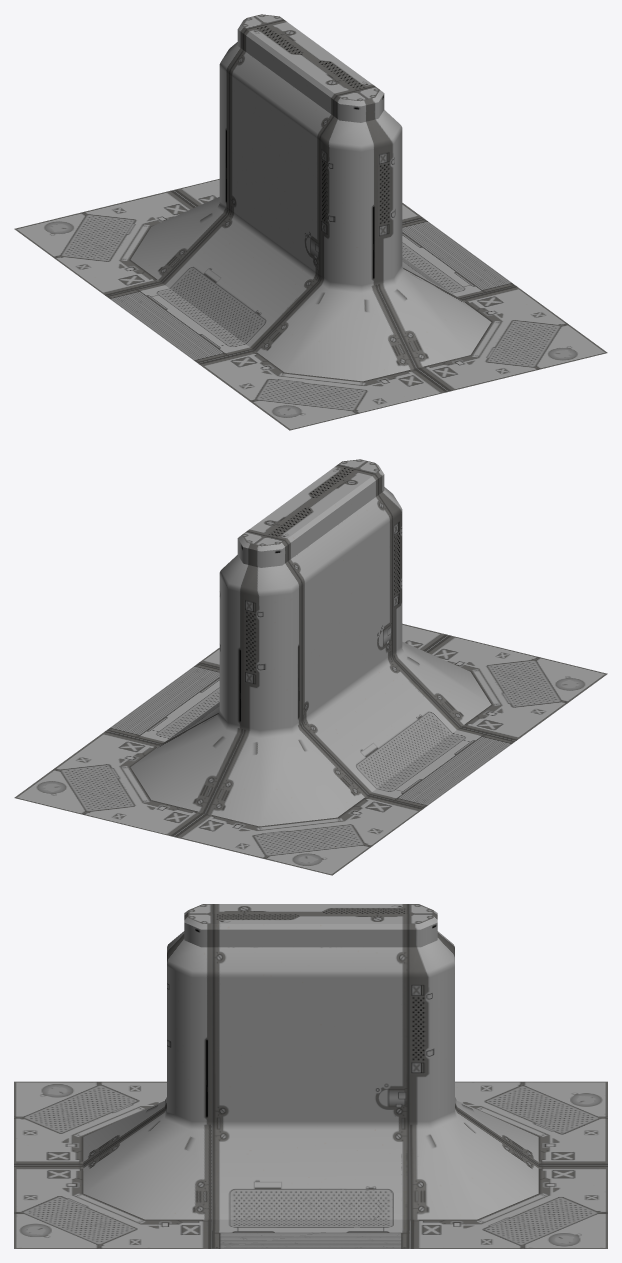
File: A_Wall_Isolated_2x6.FBX
3 renders of one model, top to bottom at view 1: azimuth 30°, elevation 25°; view 2: azimuth 150°, elevation 25°; view 3: azimuth 270°, elevation 25°, orthographic. The views are drawn at different scales.
Visible parts, largest first — view 1: A_Wall_Isolated_2x6; view 2: A_Wall_Isolated_2x6; view 3: A_Wall_Isolated_2x6.
Boxes of the visible parts, <box> form: A_Wall_Isolated_2x6: <box>14,14,607,430</box>; A_Wall_Isolated_2x6: <box>14,459,607,875</box>; A_Wall_Isolated_2x6: <box>14,904,607,1248</box>.
Bounding box in the file's own units: 400 × 280 × 600.
